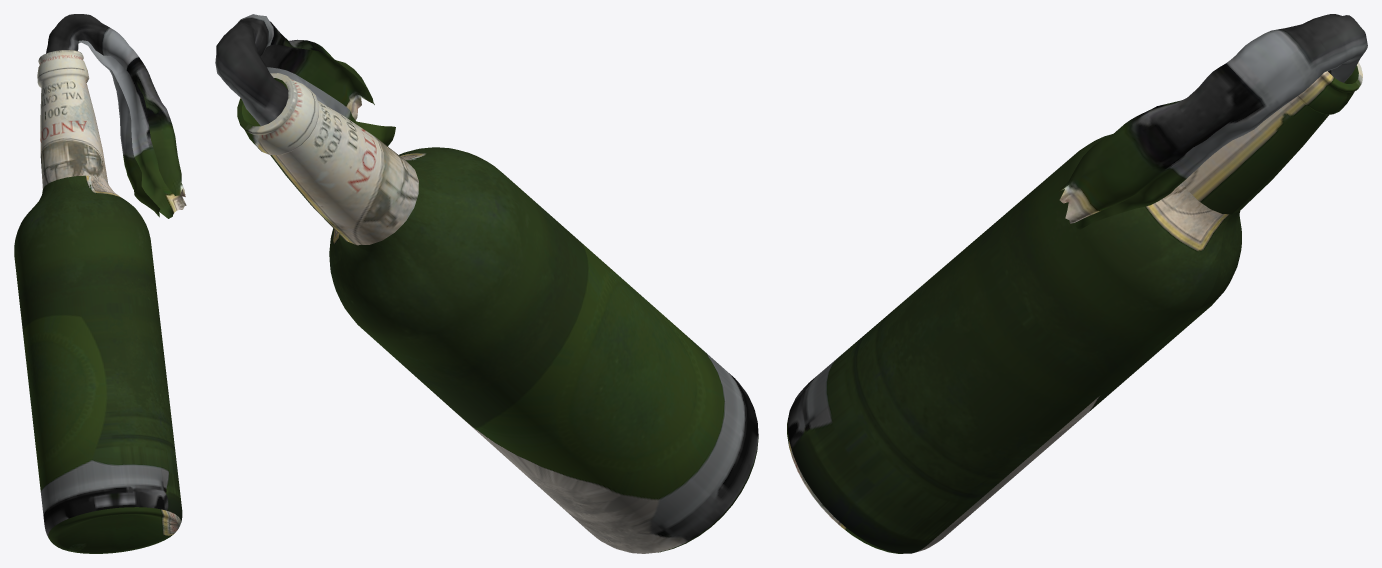
The model's file is p_molotov.glb.
The picture shows the model from 3 angles, left to right: view 1: azimuth 30°, elevation 25°; view 2: azimuth 150°, elevation 25°; view 3: azimuth 270°, elevation 25°; orthographic projection. The views are drawn at different scales.
Visible parts, largest first — view 1: p_molotov; view 2: p_molotov; view 3: p_molotov.
Part boxes in pixels (<box>): p_molotov: <box>14,14,186,553</box>; p_molotov: <box>215,14,758,553</box>; p_molotov: <box>787,14,1367,553</box>.
Bounding box in the file's own units: 0.1937 × 0.3605 × 0.3115.
5 materials, 5 textured.
